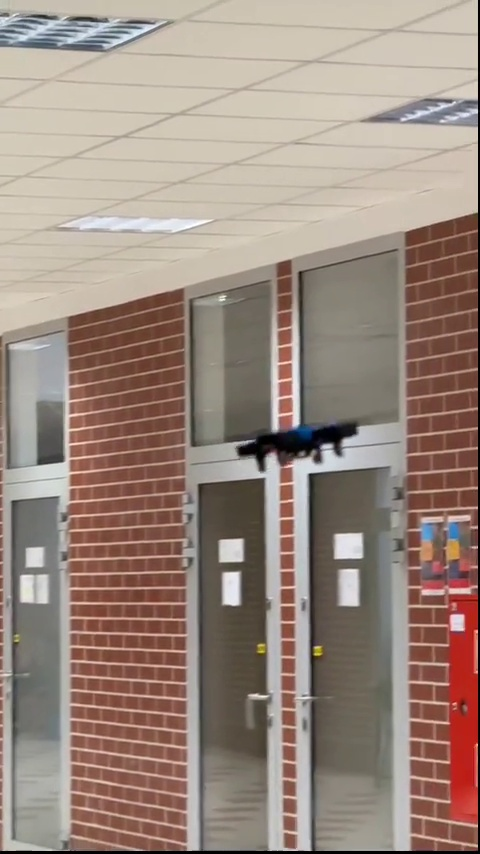drone: (238, 425, 363, 468)
